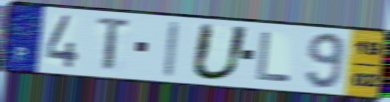4: (45, 13, 80, 70)
9: (304, 30, 347, 91)
I: (162, 20, 181, 79)
L: (254, 30, 293, 84)
T: (95, 14, 134, 73)
U: (188, 21, 253, 83)
